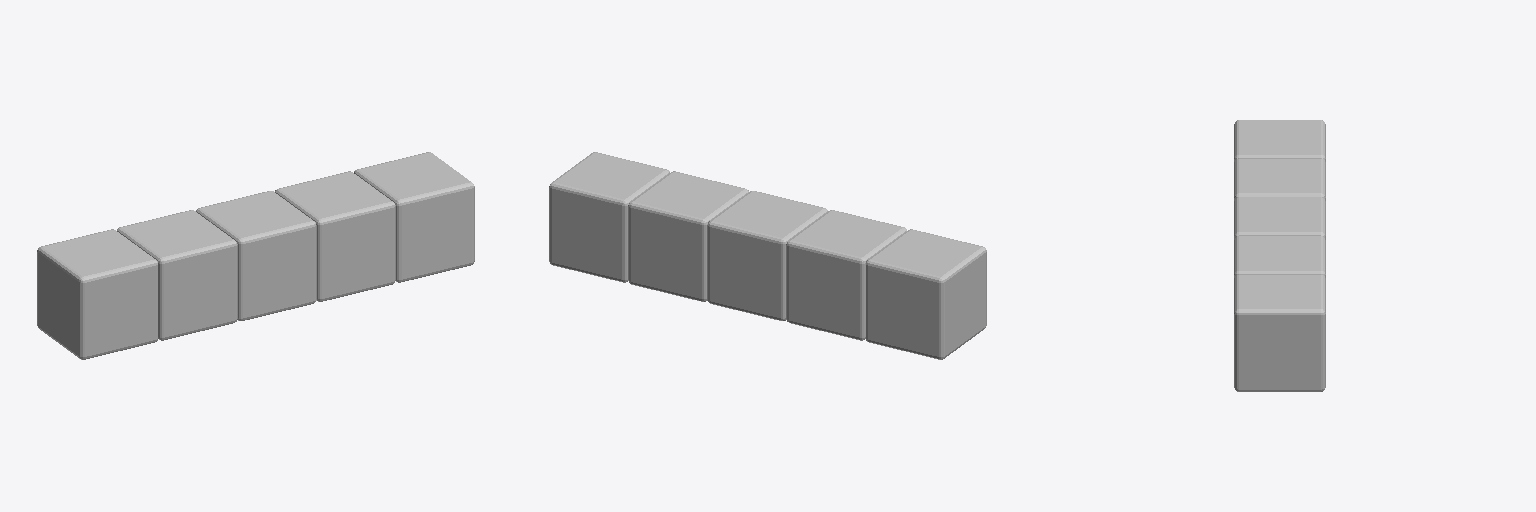
File: TileLong.obj
3 views of the same model, side by side, from view 1: azimuth 30°, elevation 25°; view 2: azimuth 150°, elevation 25°; view 3: azimuth 270°, elevation 25° (orthographic).
Parts seen in each view (by area): view 1: polySurface42; view 2: polySurface42; view 3: polySurface42.
Part boxes in pixels (x1,y1,x2,y2): polySurface42: (37, 152, 474, 359); polySurface42: (549, 152, 986, 359); polySurface42: (1234, 120, 1325, 391).
Bounding box in the file's own units: 5 × 1 × 1.